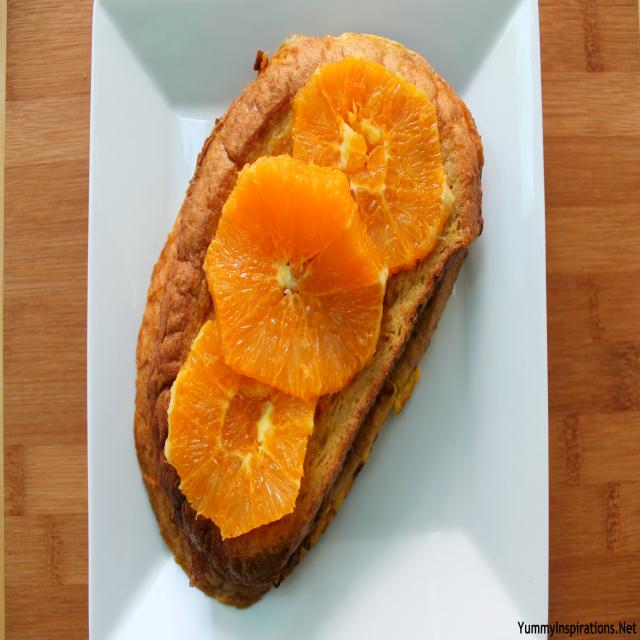orange: (200, 150, 398, 398), (286, 58, 456, 297), (165, 319, 314, 541)
